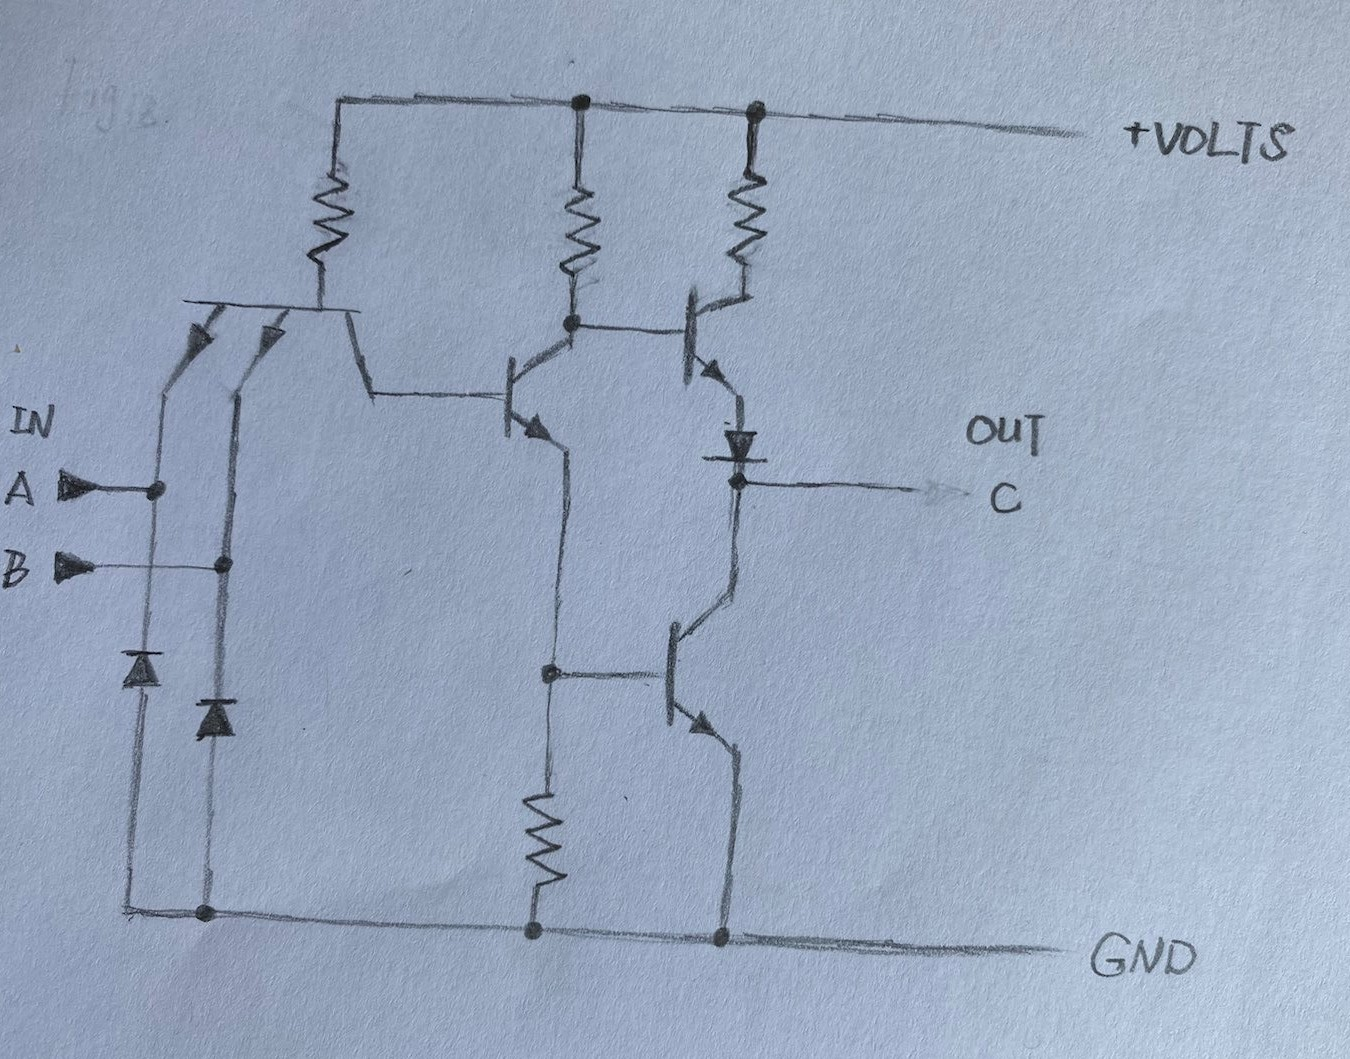crossover: (136, 553, 165, 581)
diode: (188, 688, 251, 745), (115, 640, 171, 703), (698, 421, 775, 466)
junction: (529, 647, 572, 696), (703, 911, 737, 956), (739, 93, 777, 132), (188, 893, 228, 931), (554, 303, 597, 335), (139, 470, 174, 508), (561, 88, 600, 119), (207, 546, 240, 582), (112, 890, 144, 924), (321, 83, 357, 113), (518, 913, 550, 945), (722, 468, 755, 496)
resistor: (298, 157, 365, 275), (719, 157, 781, 276), (515, 776, 576, 897), (556, 174, 606, 284)
terminal: (47, 546, 99, 589), (53, 463, 100, 508), (1029, 926, 1073, 970), (1049, 113, 1094, 148), (899, 472, 941, 506)
text: (1153, 113, 1298, 168), (1084, 922, 1202, 984), (963, 405, 1052, 460), (4, 396, 60, 444), (1, 542, 32, 595), (987, 476, 1027, 515), (3, 470, 37, 512), (1119, 117, 1151, 151)
transistor: (144, 287, 394, 419), (651, 582, 783, 775), (676, 284, 773, 409), (487, 335, 585, 457)
